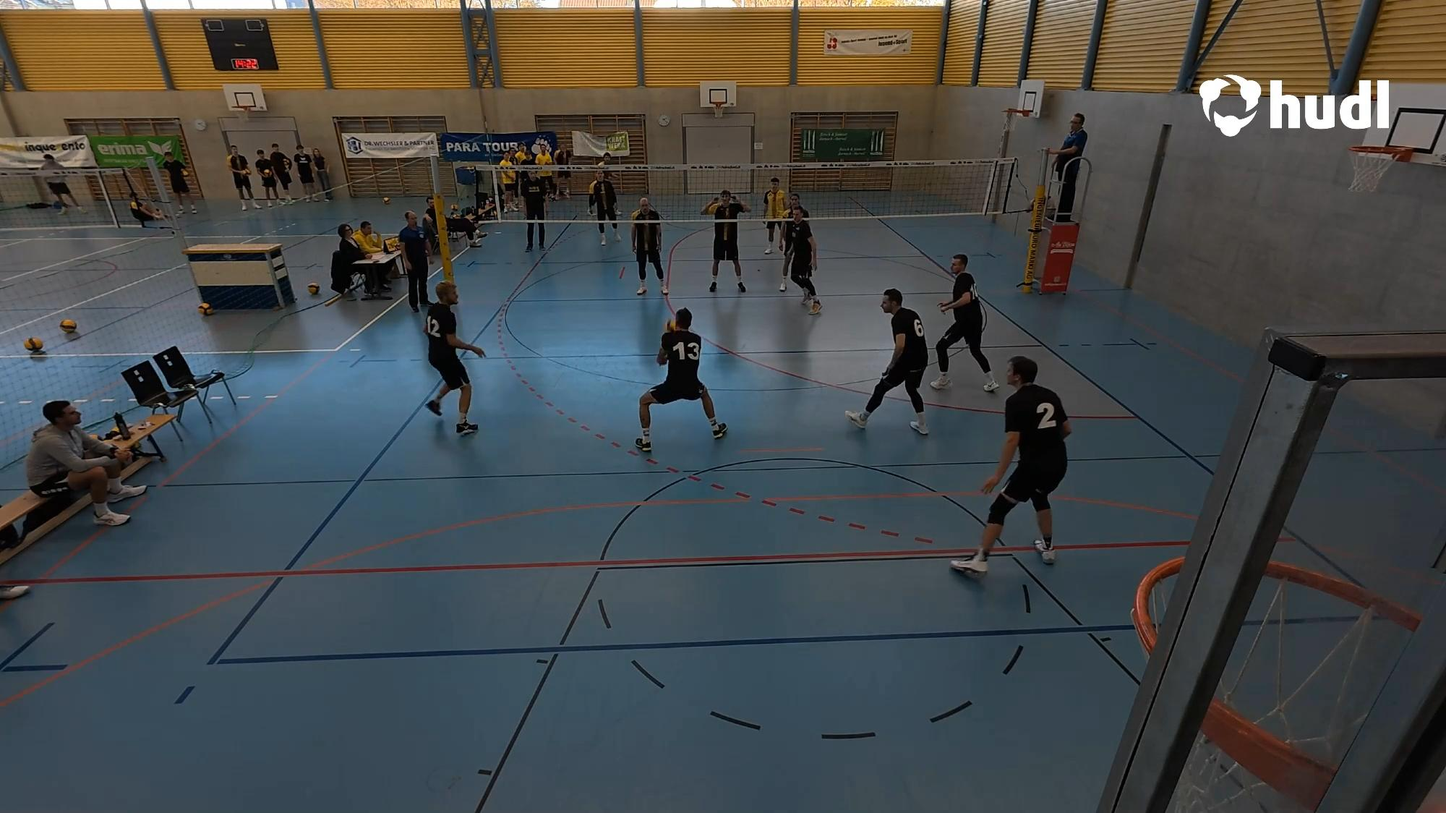Player: (950, 360, 1069, 576), (845, 287, 932, 435), (423, 276, 487, 434), (932, 250, 999, 396), (781, 205, 824, 320), (706, 192, 747, 294), (632, 197, 669, 296), (777, 192, 813, 284), (591, 170, 620, 242), (759, 170, 784, 252)
Receive: (634, 307, 729, 453)
ball: (657, 315, 680, 338)
